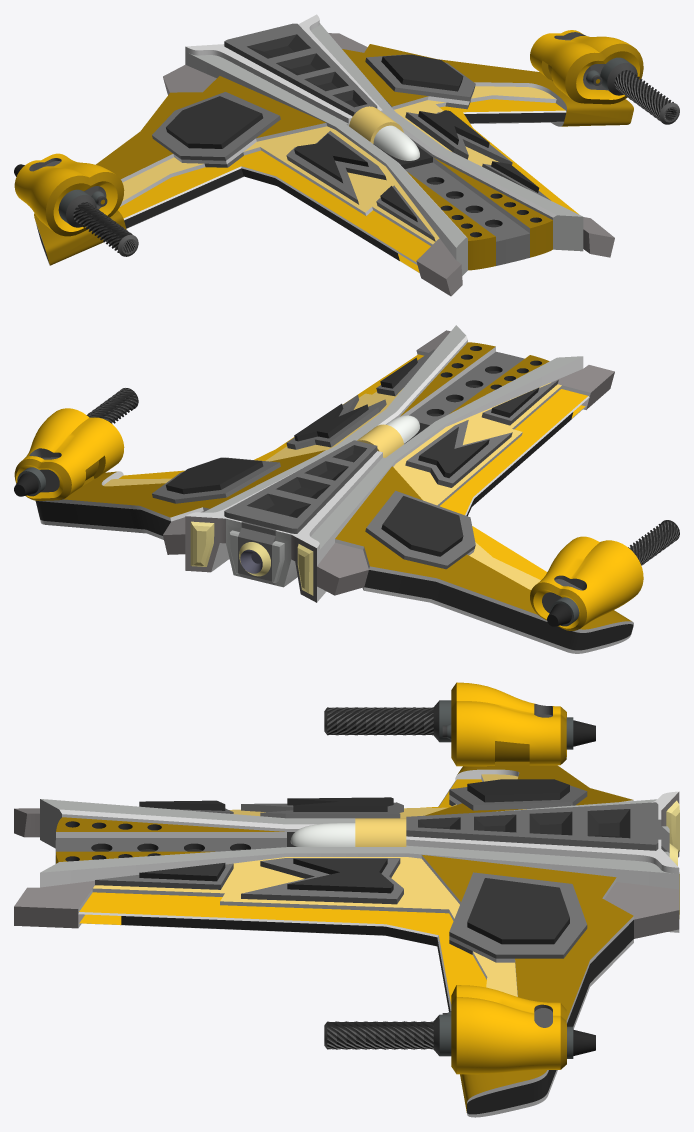
3 views of the same model, one above another, from view 1: azimuth 30°, elevation 25°; view 2: azimuth 150°, elevation 25°; view 3: azimuth 270°, elevation 25° (orthographic). The views are drawn at different scales.
Parts seen in each view (by area): view 1: Wing Civ_5, VipCiv Body_1, blaster.002_0, VipCiv Pad_4, VipCiv Cockpit_2; view 2: Wing Civ_5, VipCiv Body_1, blaster.002_0, VipCiv Pad_4, VipCiv Cockpit_2, VipCiv Engine_3; view 3: Wing Civ_5, VipCiv Body_1, blaster.002_0, VipCiv Pad_4, VipCiv Cockpit_2.
Boxes of the visible parts, left/top/right/bottom form: Wing Civ_5: left=34, top=33, right=633, bottom=296; VipCiv Body_1: left=185, top=14, right=583, bottom=275; blaster.002_0: left=14, top=30, right=679, bottom=256; VipCiv Pad_4: left=152, top=54, right=475, bottom=167; VipCiv Cockpit_2: left=349, top=106, right=419, bottom=160; Wing Civ_5: left=35, top=330, right=633, bottom=653; VipCiv Body_1: left=185, top=325, right=583, bottom=602; blaster.002_0: left=14, top=388, right=679, bottom=630; VipCiv Pad_4: left=152, top=457, right=475, bottom=569; VipCiv Cockpit_2: left=357, top=415, right=419, bottom=457; VipCiv Engine_3: left=239, top=542, right=270, bottom=576; Wing Civ_5: left=14, top=765, right=679, bottom=1117; VipCiv Body_1: left=40, top=791, right=679, bottom=932; blaster.002_0: left=324, top=682, right=595, bottom=1074; VipCiv Pad_4: left=449, top=779, right=587, bottom=962; VipCiv Cockpit_2: left=290, top=818, right=406, bottom=846.
Bounding box in the file's own units: 2.97 × 0.522 × 2.41.
